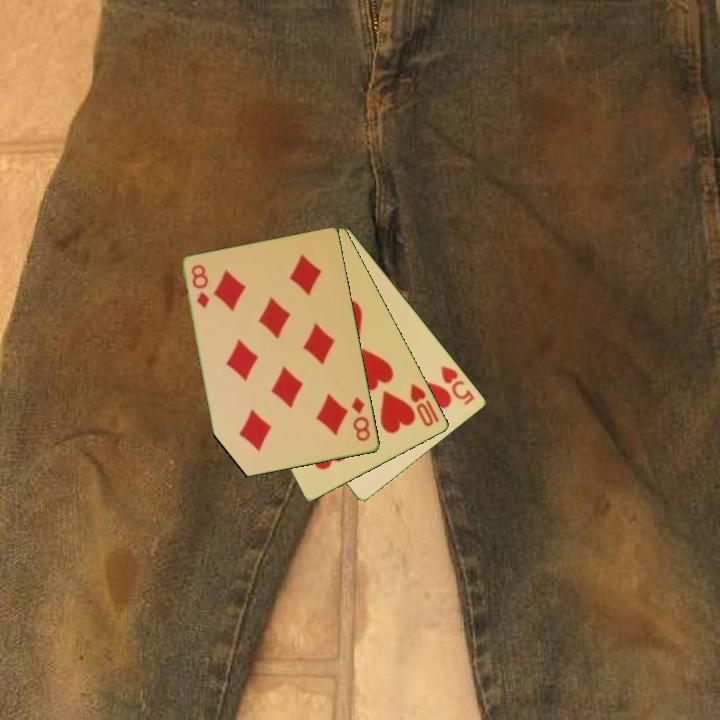10h: (407, 380, 437, 430)
5h: (438, 362, 478, 408)
8d: (348, 393, 374, 444), (188, 261, 213, 311)
